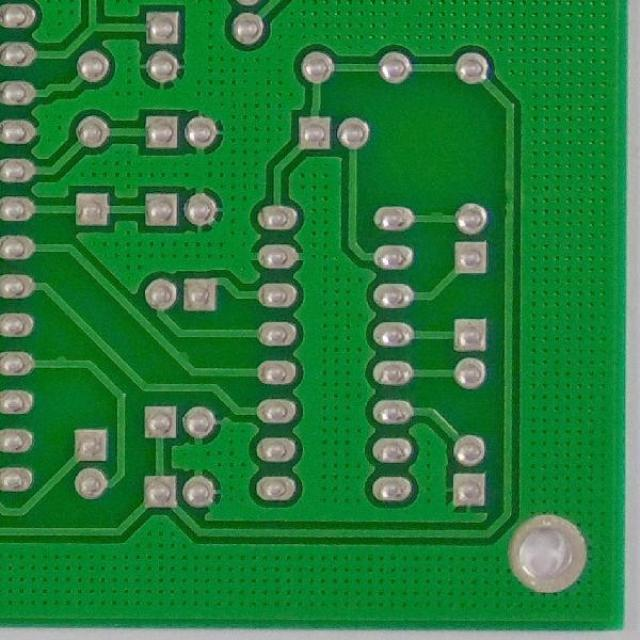Spur: (50, 350, 73, 374), (173, 345, 194, 370), (426, 206, 448, 226)
